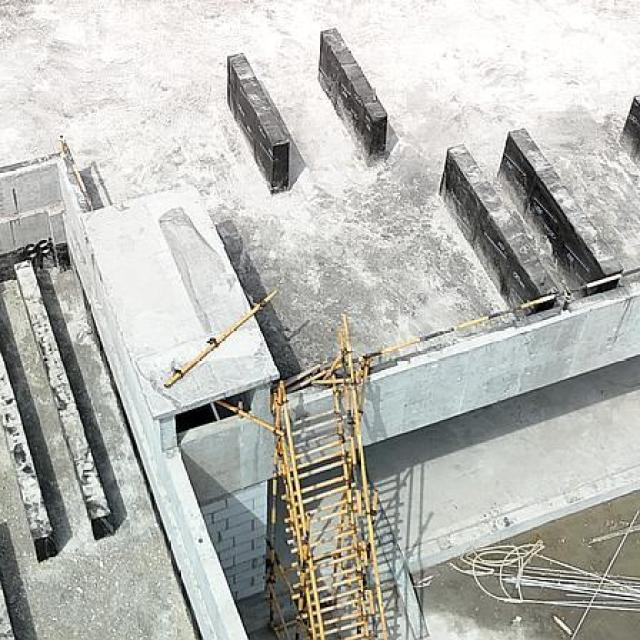edge_guardrail: (351, 267, 640, 379), (58, 134, 95, 213)
